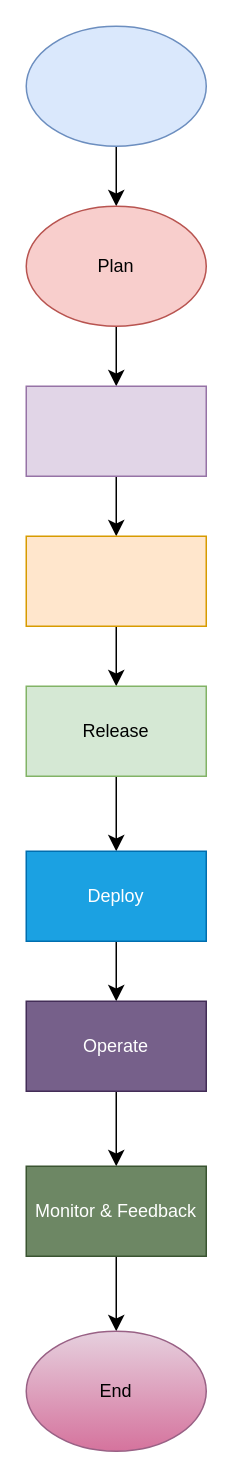
Some shapes in this 233 by 1478 pixel diagram are drawn without their labels. Each missing label, with the centre of its shape:
"Build &Test" goes at point (115, 580).
"Develop" goes at point (115, 430).
"Start" goes at point (115, 85).
